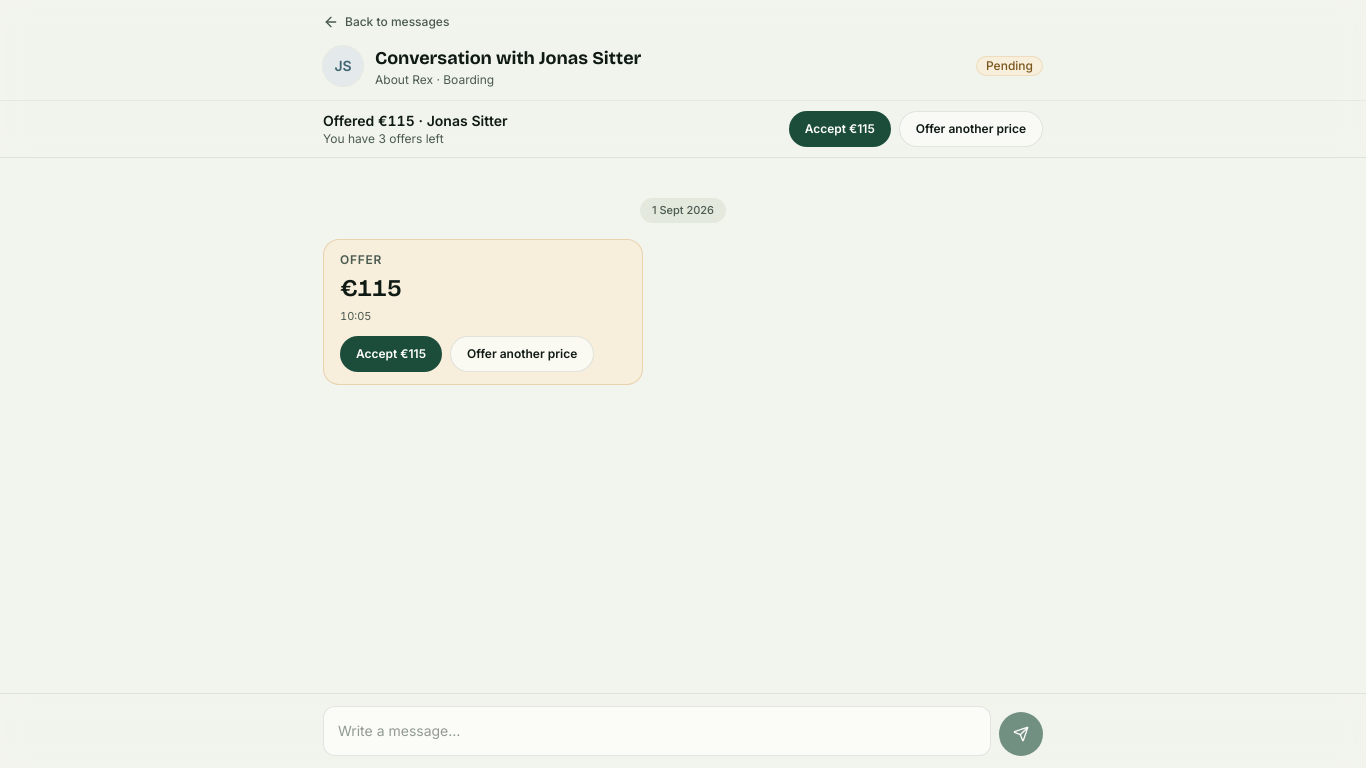
Test case: price and offers (2026-09-15) › tells the owner the sitter isn't free when accepting is refused with sitter_unavailable
The image size is (1366, 768).
Expected: the element showing "1 Sept 2026 Offer €115 10:05 Accept €115 Offer another price" is shown, [323,198,726,385]
Click the button "Accept €115" in the row of "Offered €115 · Jonas Sitter" at (840, 129), box [789,111,891,147]
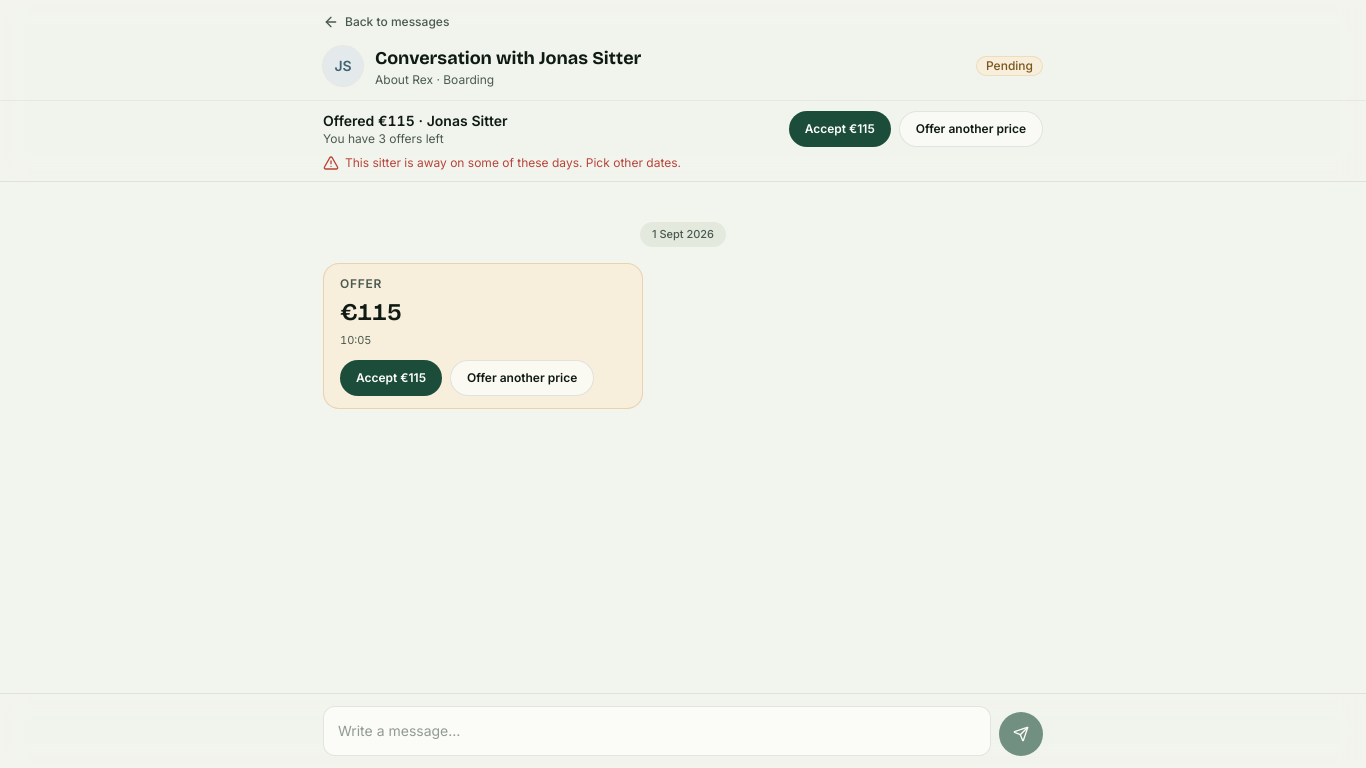
Result: the text "This sitter is away on some of these days. Pick other dates." is shown at [323,155,681,171]
